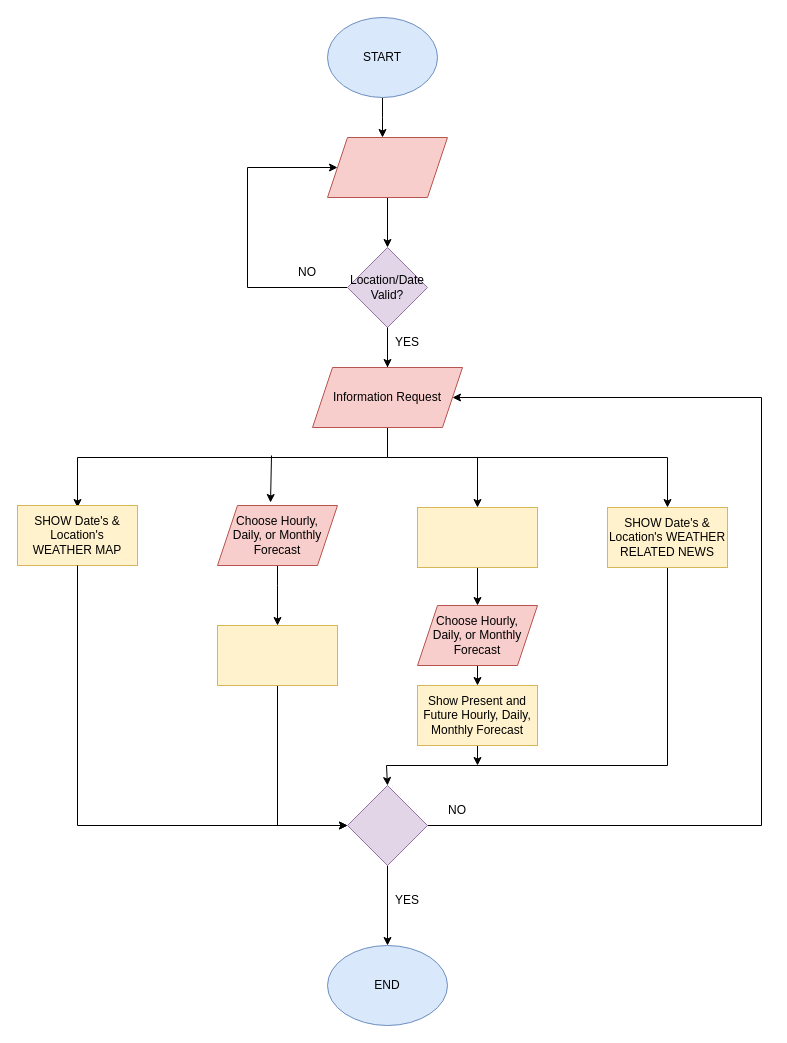
This 787x1043 diagram has some shape labels left out. The shapes that lost their labels are listed below. From the top down, each one's centre as x and y in pixels, then its label:
At (x=387, y=167): "User's Location Date".
At (x=477, y=537): "SHOW Date's & Location's WEATHER FORECAST".
At (x=277, y=655): "SHOW Date's & Location's WEATHER FORECAST STATISTIC".
At (x=387, y=825): "Done Searching?".
